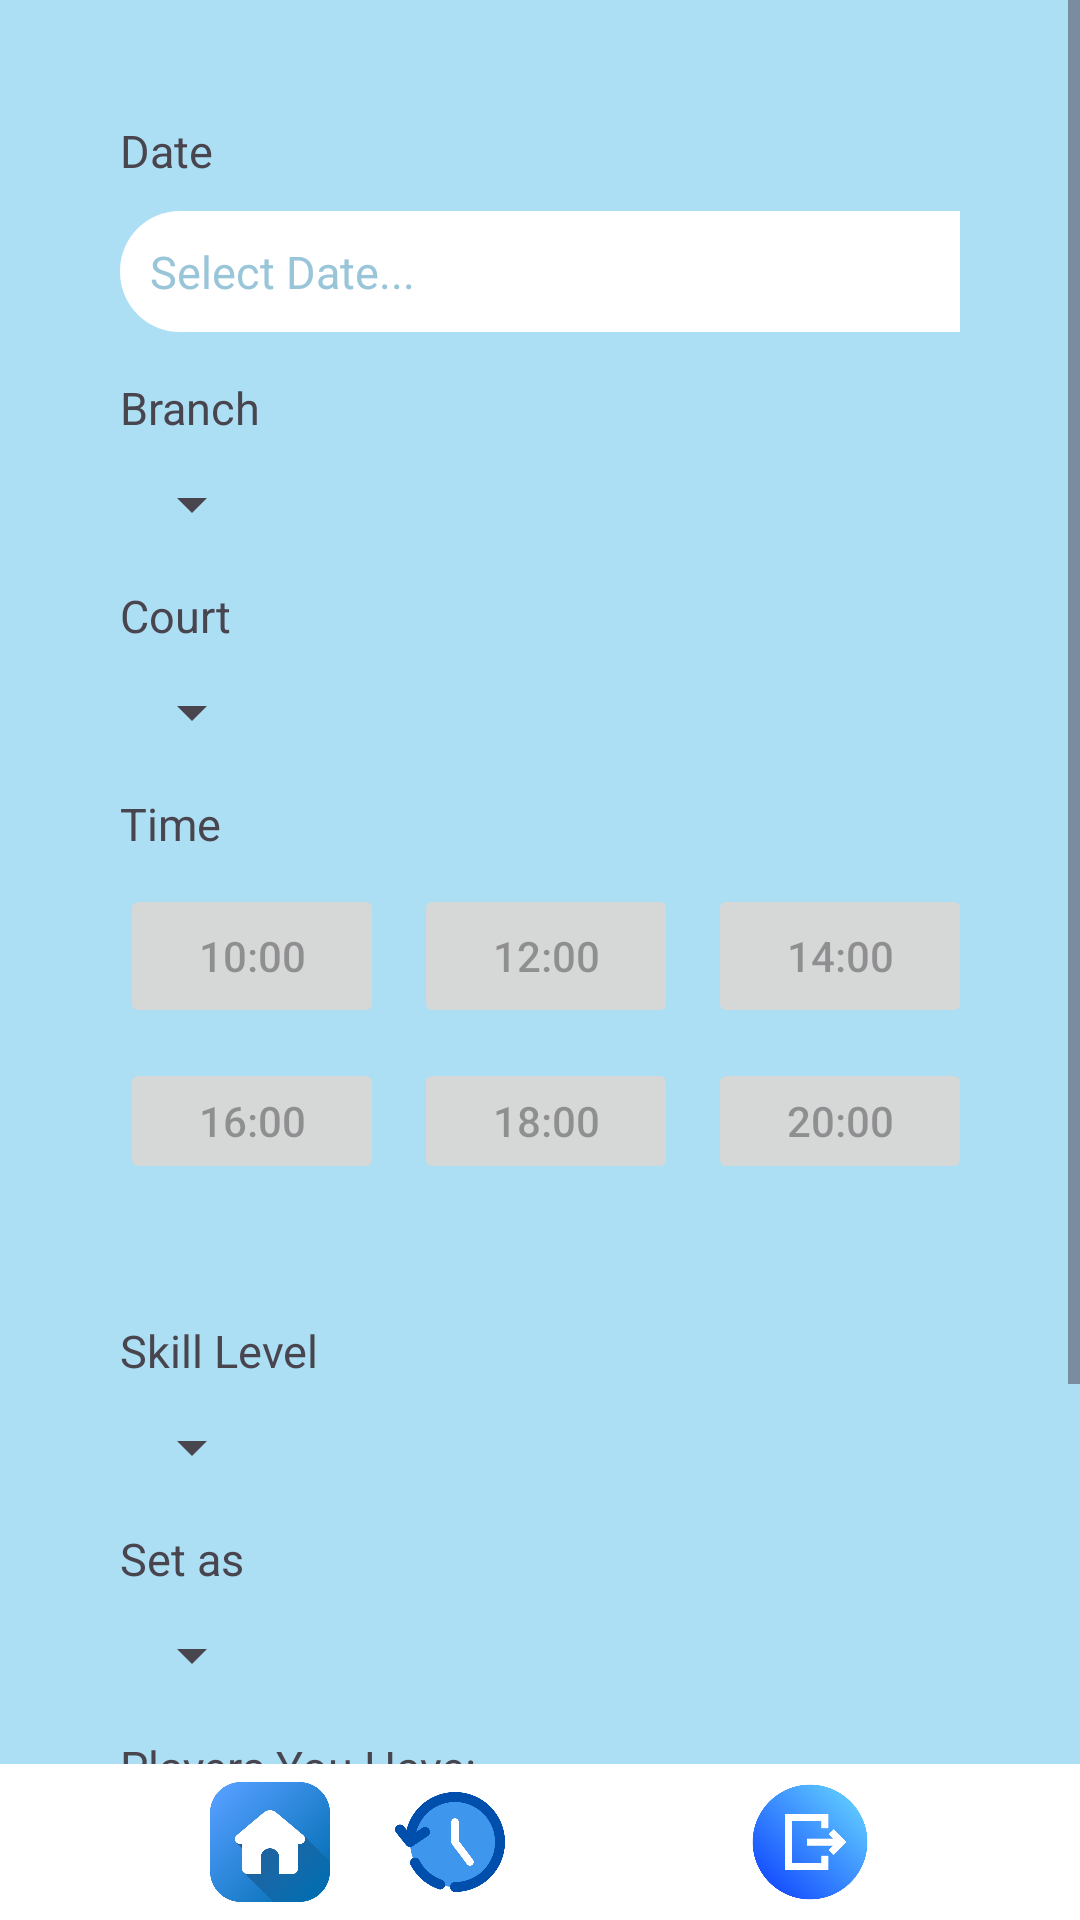

Where to tap for icons on this 1080px x 1920px app screen, as point (x, y):
clock: point (450, 1842)
home: point (270, 1842)
log: point (810, 1842)
